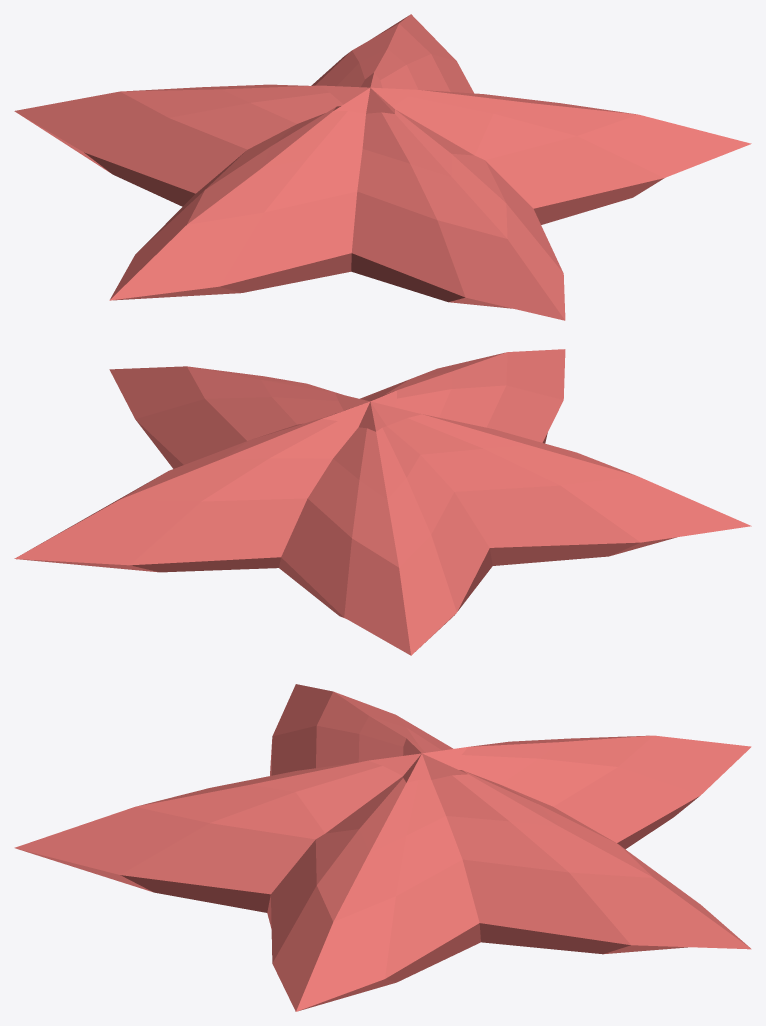
The model's file is StarFish.fbx.
The picture shows the model from 3 angles, top to bottom: view 1: azimuth 30°, elevation 25°; view 2: azimuth 150°, elevation 25°; view 3: azimuth 270°, elevation 25°; orthographic projection. The views are drawn at different scales.
Visible parts, largest first — view 1: Circle; view 2: Circle; view 3: Circle.
Boxes of the visible parts, <box> form: Circle: <box>14,14,751,320</box>; Circle: <box>14,349,751,655</box>; Circle: <box>14,684,751,1011</box>.
Bounding box in the file's own units: 178 × 32.37 × 169.
